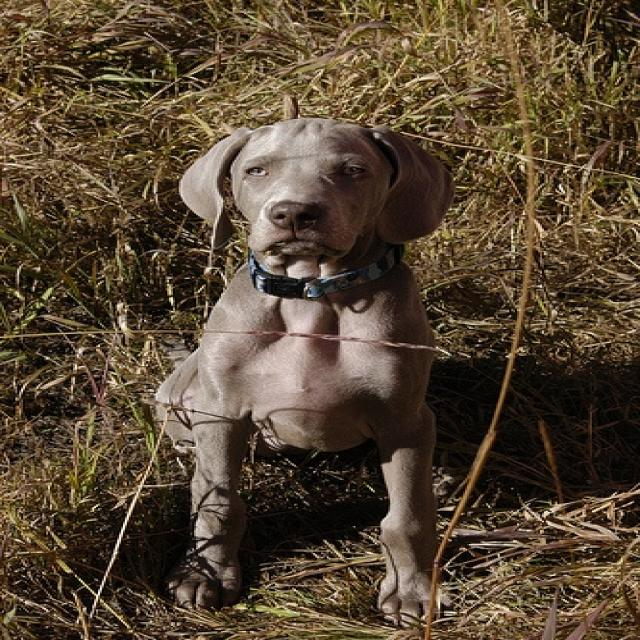dog: (154, 116, 455, 621)
